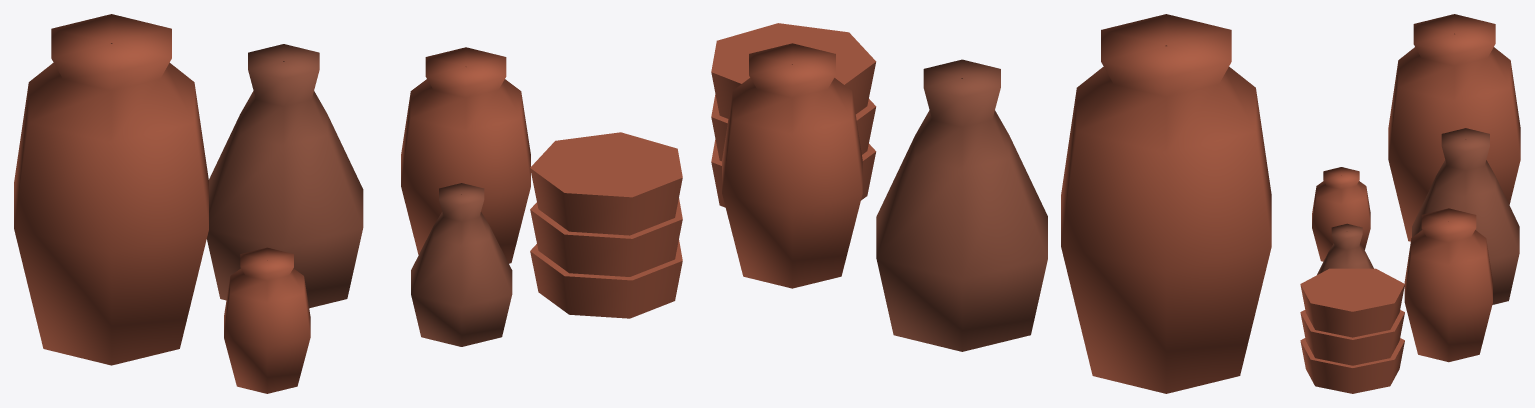
File: rome_wares_jars.glb
3 renders of one model, left to right at view 1: azimuth 30°, elevation 25°; view 2: azimuth 150°, elevation 25°; view 3: azimuth 270°, elevation 25°, orthographic. The views are drawn at different scales.
Parts seen in each view (by area): view 1: rome_wares_jars; view 2: rome_wares_jars; view 3: rome_wares_jars.
Boxes of the visible parts, box(x1,y1,x2,y2) form: rome_wares_jars: box(14, 14, 682, 393); rome_wares_jars: box(711, 14, 1271, 393); rome_wares_jars: box(1300, 14, 1520, 393).
Size of the model in its own units: 1.63 by 0.78 by 0.7791.
